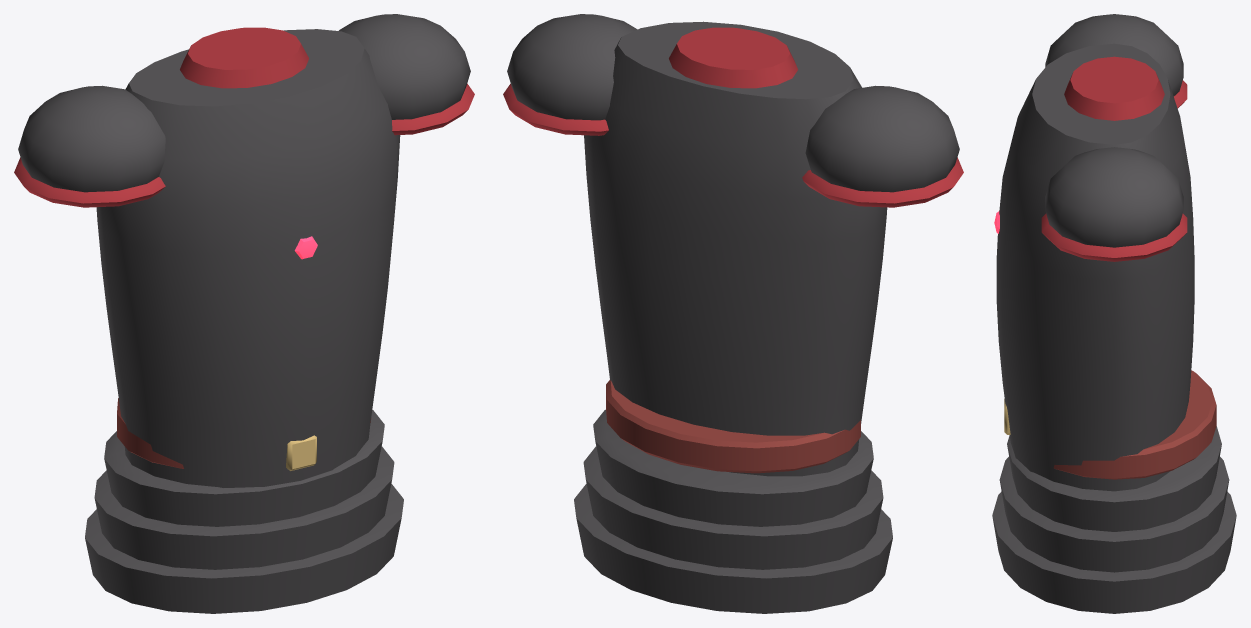
File: tc_black_dominion_plate.glb
The picture shows the model from 3 angles, left to right: view 1: azimuth 30°, elevation 25°; view 2: azimuth 150°, elevation 25°; view 3: azimuth 270°, elevation 25°; orthographic projection. The views are drawn at different scales.
Parts seen in each view (by area): view 1: tc_black_dominion_plate; view 2: tc_black_dominion_plate; view 3: tc_black_dominion_plate.
Part boxes in pixels (x1,y1,x2,y2): tc_black_dominion_plate: (14, 14, 474, 613); tc_black_dominion_plate: (503, 14, 963, 613); tc_black_dominion_plate: (992, 14, 1236, 613).
Bounding box in the file's own units: 0.5987 × 0.66 × 0.3104.
